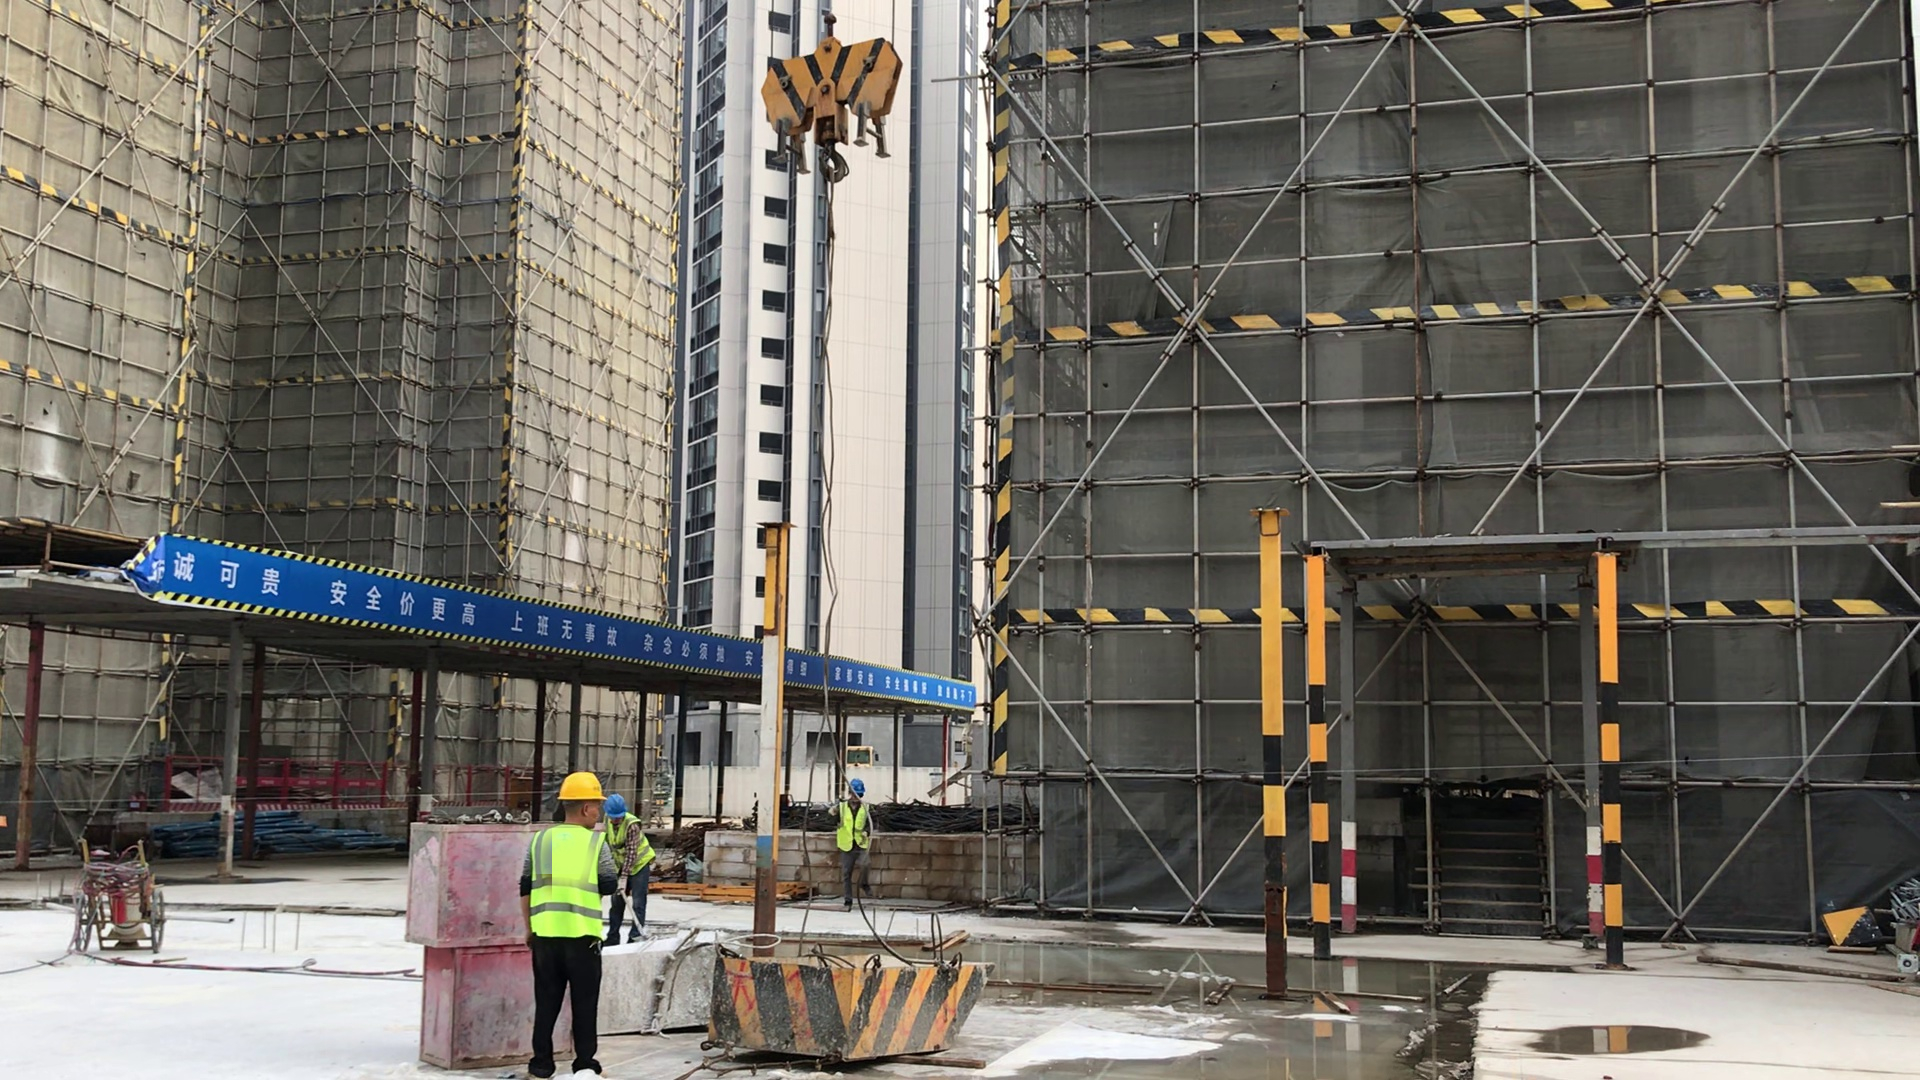fence: (173, 753, 539, 803)
handcart: (73, 829, 163, 954)
helmet: (557, 771, 605, 801), (606, 795, 627, 819), (849, 777, 865, 793)
hook: (761, 15, 901, 183)
hopper: (705, 945, 989, 1065), (597, 927, 724, 1039)
person: (518, 772, 618, 1080), (598, 794, 652, 946), (828, 778, 874, 909)
slogan: (148, 534, 974, 710)
vest: (531, 825, 602, 938), (609, 813, 657, 874), (836, 800, 870, 852)
